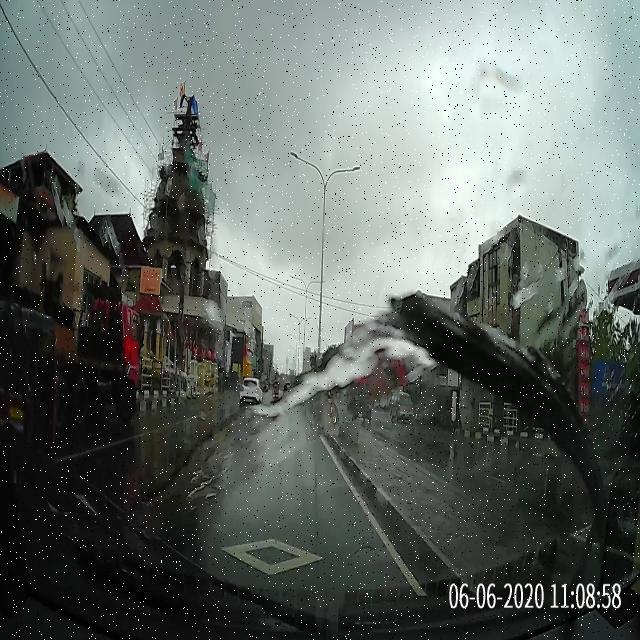diamond: (102, 512, 428, 598)
